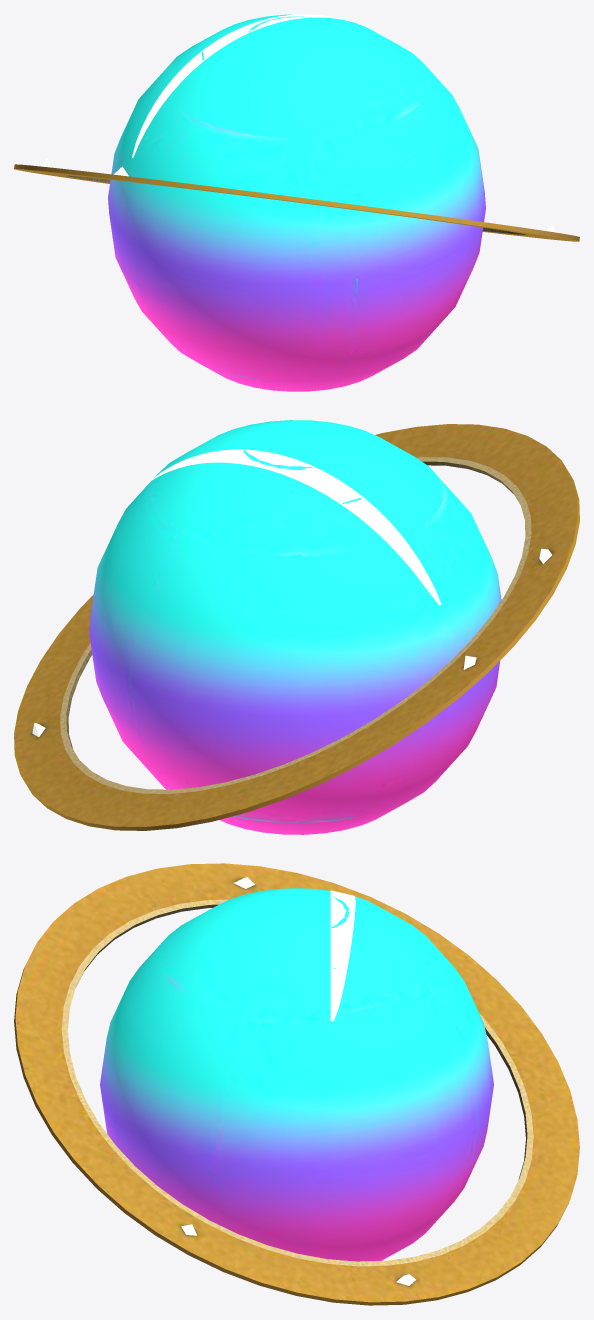
The picture shows the model from 3 angles, top to bottom: view 1: azimuth 30°, elevation 25°; view 2: azimuth 150°, elevation 25°; view 3: azimuth 270°, elevation 25°; orthographic projection. The views are drawn at different scales.
Visible parts, largest first — view 1: glow_Planet_gradient, Brushed_gold, glow_Ice_crystal_and_rim; view 2: glow_Planet_gradient, Brushed_gold, glow_Ice_crystal_and_rim, Polished_inner_gold; view 3: glow_Planet_gradient, Brushed_gold, Polished_inner_gold, glow_Ice_crystal_and_rim.
Part boxes in pixels (x1,y1,x2,y2): glow_Planet_gradient: (108, 14, 485, 391); Brushed_gold: (14, 164, 579, 241); glow_Ice_crystal_and_rim: (40, 14, 556, 232); glow_Planet_gradient: (89, 420, 501, 834); Brushed_gold: (14, 424, 579, 830); glow_Ice_crystal_and_rim: (32, 449, 551, 736); Polished_inner_gold: (60, 457, 531, 793); glow_Planet_gradient: (100, 888, 493, 1261); Brushed_gold: (14, 863, 579, 1305); Polished_inner_gold: (61, 899, 533, 1266); glow_Ice_crystal_and_rim: (181, 877, 416, 1285).
Bounding box in the file's own units: 0.9943 × 0.6964 × 1.
4 materials, 3 textured.
